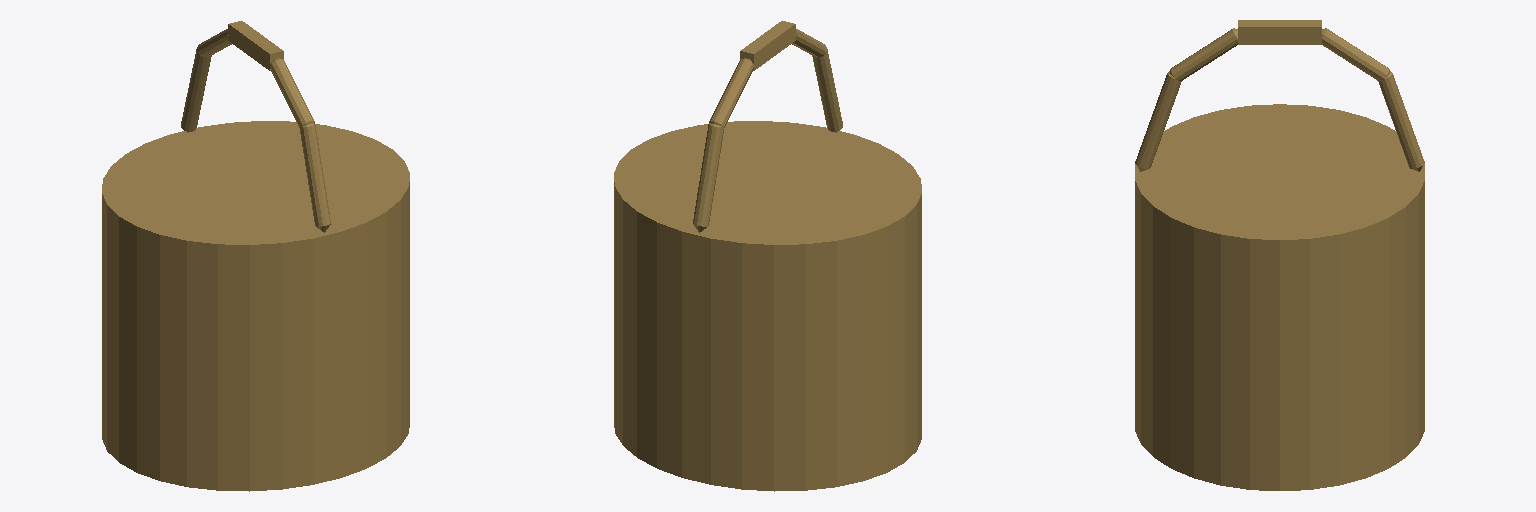
The robot description file, URDF, robot "bucket":
<?xml version="1.0"?>
<robot name="bucket">
  <link name="bucket_link">
    <inertial>
      <origin xyz="0 0 0"/>
      <mass value="0.5"/>
      <inertia ixx="0.01" ixy="0" ixz="0" iyy="0.01" iyz="0" izz="0.01"/>
    </inertial>
    <visual name="part_00_solid_body">
      <geometry><mesh filename="bucket_proxy_minimal_v1/part_00_solid_body.obj" scale="1 1 1"/></geometry>
      <material name="bucket_proxy"><color rgba="0.65 0.55 0.35 0.85"/></material>
    </visual>
    <visual name="part_01_handle_pos_lower">
      <geometry><mesh filename="bucket_proxy_minimal_v1/part_01_handle_pos_lower.obj" scale="1 1 1"/></geometry>
      <material name="bucket_proxy"><color rgba="0.65 0.55 0.35 0.85"/></material>
    </visual>
    <visual name="part_02_handle_pos_upper">
      <geometry><mesh filename="bucket_proxy_minimal_v1/part_02_handle_pos_upper.obj" scale="1 1 1"/></geometry>
      <material name="bucket_proxy"><color rgba="0.65 0.55 0.35 0.85"/></material>
    </visual>
    <visual name="part_03_handle_neg_lower">
      <geometry><mesh filename="bucket_proxy_minimal_v1/part_03_handle_neg_lower.obj" scale="1 1 1"/></geometry>
      <material name="bucket_proxy"><color rgba="0.65 0.55 0.35 0.85"/></material>
    </visual>
    <visual name="part_04_handle_neg_upper">
      <geometry><mesh filename="bucket_proxy_minimal_v1/part_04_handle_neg_upper.obj" scale="1 1 1"/></geometry>
      <material name="bucket_proxy"><color rgba="0.65 0.55 0.35 0.85"/></material>
    </visual>
    <visual name="part_05_grip">
      <geometry><mesh filename="bucket_proxy_minimal_v1/part_05_grip.obj" scale="1 1 1"/></geometry>
      <material name="bucket_proxy"><color rgba="0.65 0.55 0.35 0.85"/></material>
    </visual>
    <collision name="part_00_solid_body">
      <geometry><mesh filename="bucket_proxy_minimal_v1/part_00_solid_body.obj" scale="1 1 1"/></geometry>
    </collision>
    <collision name="part_01_handle_pos_lower">
      <geometry><mesh filename="bucket_proxy_minimal_v1/part_01_handle_pos_lower.obj" scale="1 1 1"/></geometry>
    </collision>
    <collision name="part_02_handle_pos_upper">
      <geometry><mesh filename="bucket_proxy_minimal_v1/part_02_handle_pos_upper.obj" scale="1 1 1"/></geometry>
    </collision>
    <collision name="part_03_handle_neg_lower">
      <geometry><mesh filename="bucket_proxy_minimal_v1/part_03_handle_neg_lower.obj" scale="1 1 1"/></geometry>
    </collision>
    <collision name="part_04_handle_neg_upper">
      <geometry><mesh filename="bucket_proxy_minimal_v1/part_04_handle_neg_upper.obj" scale="1 1 1"/></geometry>
    </collision>
    <collision name="part_05_grip">
      <geometry><mesh filename="bucket_proxy_minimal_v1/part_05_grip.obj" scale="1 1 1"/></geometry>
    </collision>
  </link>
</robot>

--- Facts derived from the render (not from the file) ---
Views: 3 orthographic renders of the robot side by side, from view 1: azimuth 30°, elevation 25°; view 2: azimuth 150°, elevation 25°; view 3: azimuth 270°, elevation 25°.
Model bucket with 1 links and 0 joints (none), rooted at bucket_link, posed all joints at 0.
Links seen in each view (by area): view 1: bucket_link; view 2: bucket_link; view 3: bucket_link.
Link boxes in pixels (bbox=[...]): bucket_link: bbox=[102, 21, 409, 491]; bucket_link: bbox=[614, 21, 921, 491]; bucket_link: bbox=[1135, 20, 1424, 490].
Size in the robot's own frame: 0.32 by 0.2884 by 0.4375 metres.
6 mesh visuals loaded from 6 distinct referenced files (6 OBJ).
